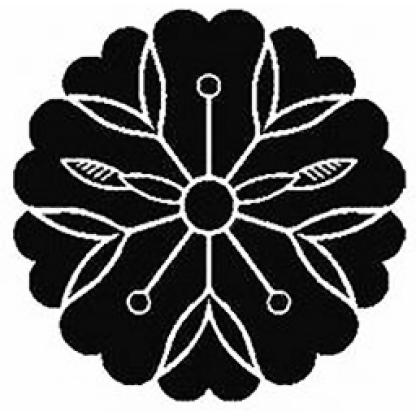kamon: (8, 5, 408, 401)
